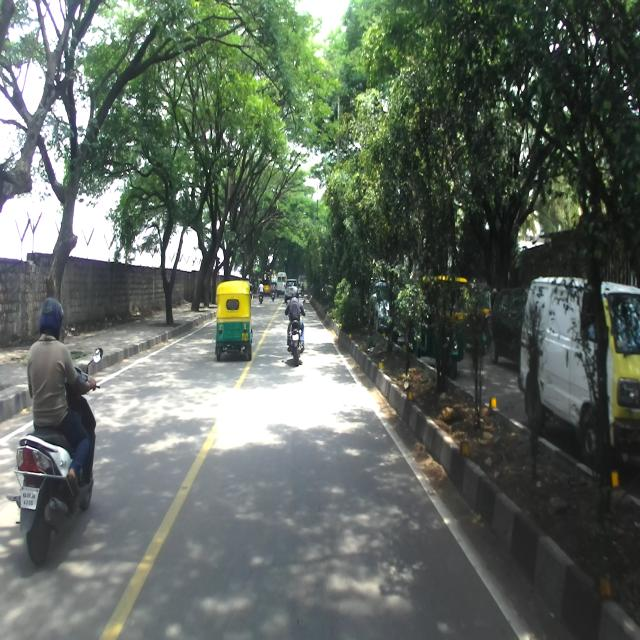auto ahead at: (214, 277, 252, 372)
motorcycle ahead at: (11, 427, 75, 561)
